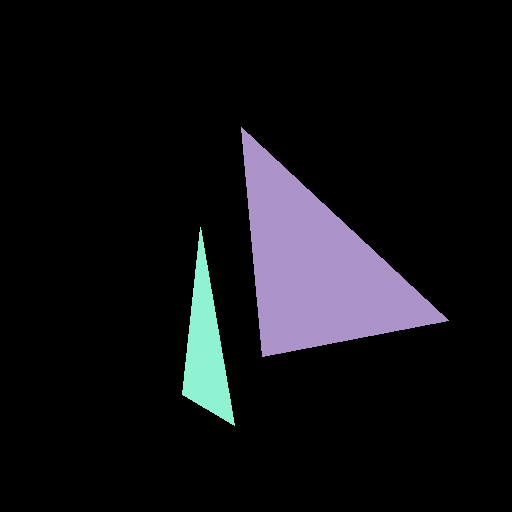triangle: (241, 127, 448, 356), (182, 227, 234, 425)
